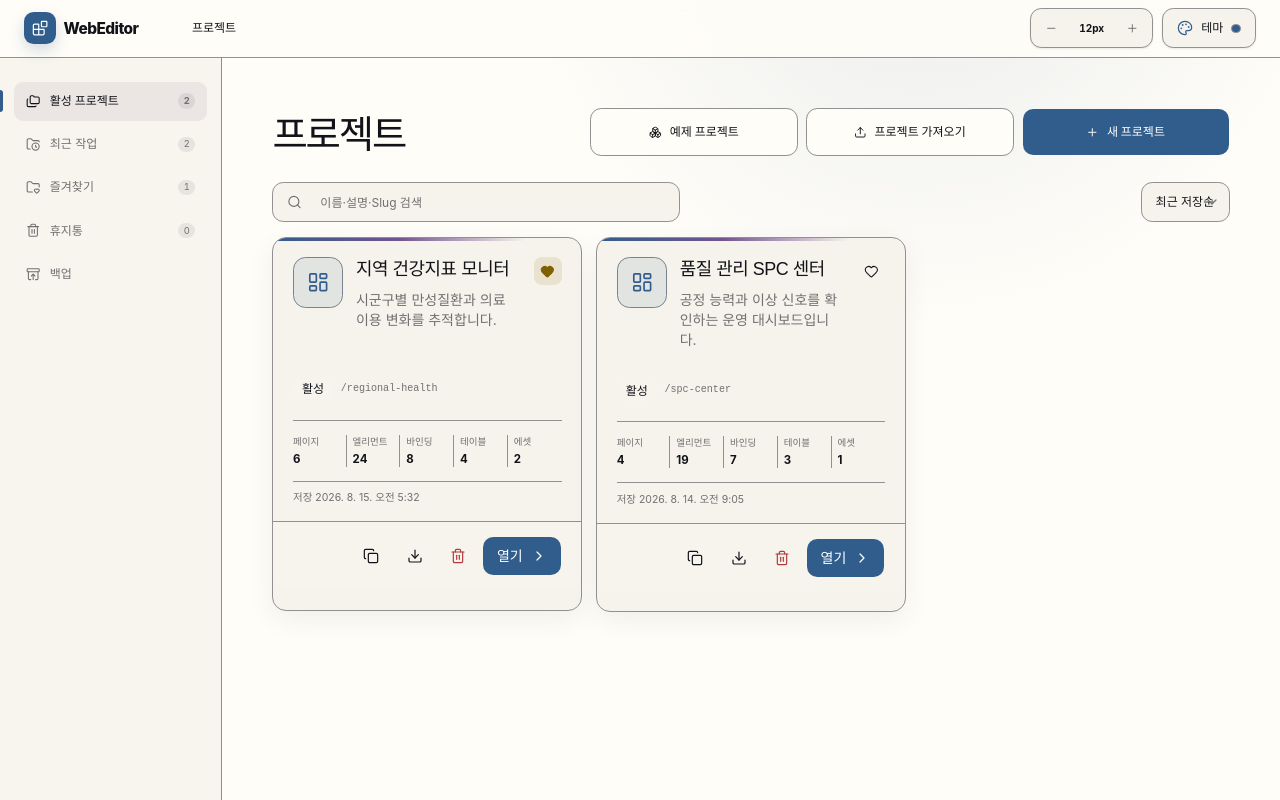
WebEditor persistent project home › loads both server lists, preserves control order, searches, and opens the editor
Check: the heading "지역 건강지표 모니터" is shown, box [356, 257, 521, 282]
Check: the heading "프로젝트" is shown, box [272, 112, 405, 156]
Type "SPC" into the search field with placeholder "이름·설명·Slug 검색". click: [488, 202]
box: [310, 186, 665, 218]
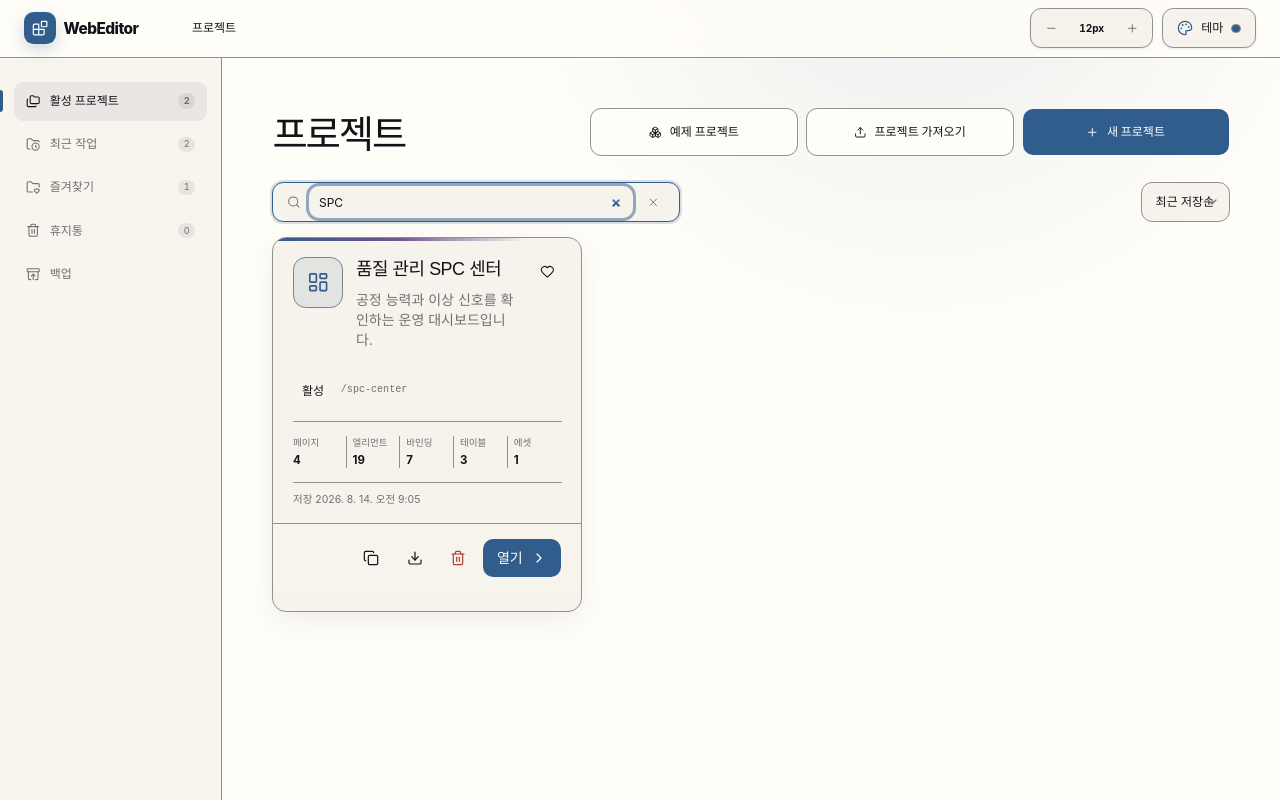
Check: the heading "지역 건강지표 모니터" is gone
Click the button "열기". click: [522, 558]
box: [482, 538, 562, 578]
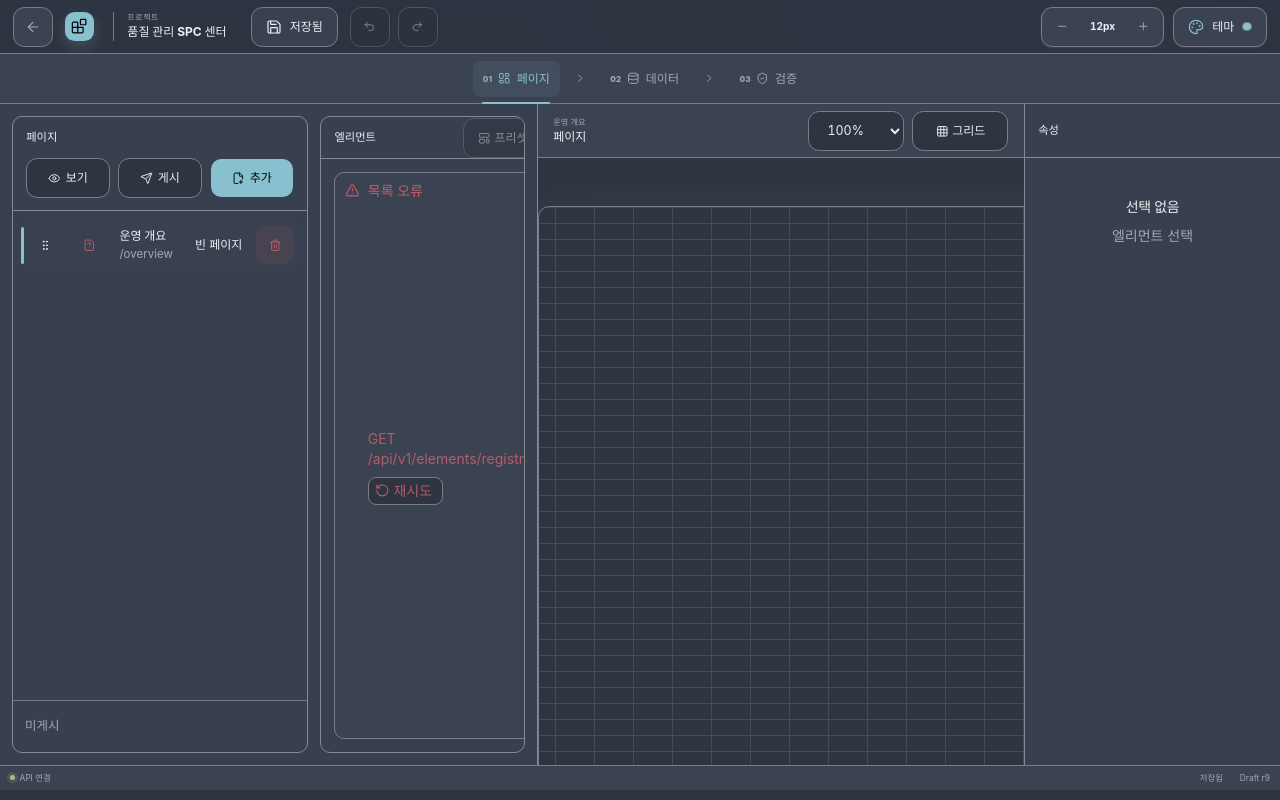
Check: the navigation bar named "제작 단계" is shown, box [0, 54, 1279, 104]
Check: the element named "페이지 캔버스" is shown, box [538, 158, 1024, 765]
